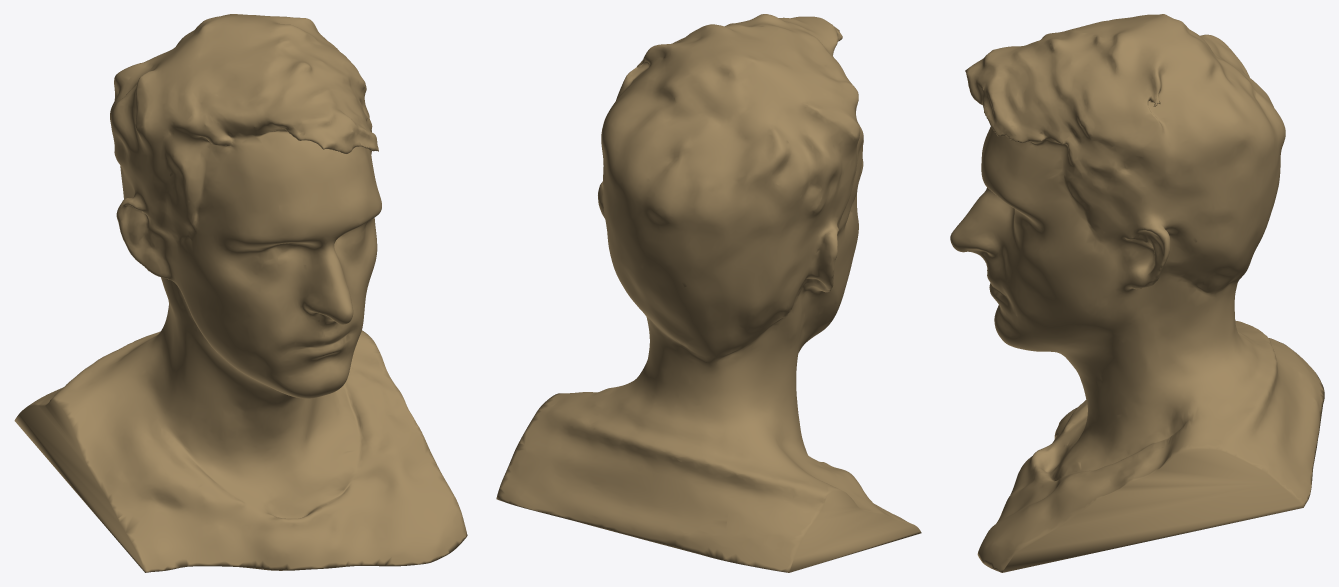
Rendered from bryan-head.glb.
3 views of the same model, side by side, from view 1: azimuth 30°, elevation 25°; view 2: azimuth 150°, elevation 25°; view 3: azimuth 270°, elevation 25° (orthographic). The views are drawn at different scales.
Parts seen in each view (by area): view 1: Bryan-Head; view 2: Bryan-Head; view 3: Bryan-Head.
Part boxes in pixels (box(x1,y1,x2,y2)): Bryan-Head: box(14, 14, 467, 572); Bryan-Head: box(496, 14, 921, 572); Bryan-Head: box(950, 14, 1324, 572).
Size of the model in its own units: 0.1027 by 0.1678 by 0.1179.
